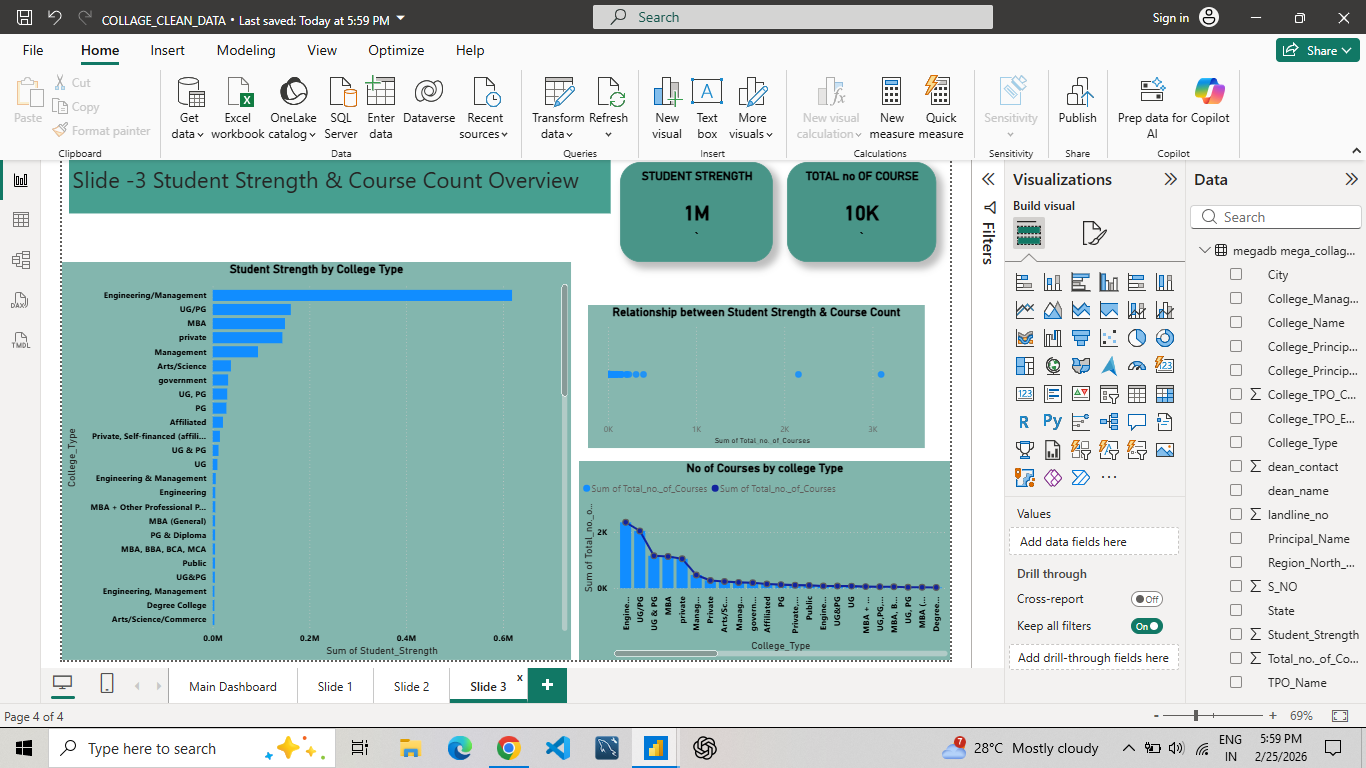

The page's visual inventory and layout, read from the dashboard file:
{"tool":"powerbi","page":{"name":"Slide 3","canvas":[1280,720],"ordinal":3},"visuals":[{"type":"textbox","box":[10,0,780,77.1],"z":0},{"type":"card","title":"STUDENT STRENGTH","fields":{"Values":["Sum(megadb mega_collage_data.Student_Strength)"]},"box":[803.5,2.9,220.3,144],"z":1000},{"type":"card","title":"TOTAL no OF COURSE","fields":{"Values":["Sum(megadb mega_collage_data.Total_no._of_Courses)"]},"box":[1044,2.9,214.6,144],"z":2000},{"type":"clusteredBarChart","title":"Student Strength by College Type","fields":{"Y":["Sum(megadb mega_collage_data.Student_Strength)"],"Category":["megadb mega_collage_data.College_Type"]},"box":[0,146.9,733,573.1],"z":3000},{"type":"lineStackedColumnComboChart","title":"No of Courses by college Type","fields":{"Category":["megadb mega_collage_data.College_Type"],"Y":["Sum(megadb mega_collage_data.Total_no._of_Courses)"],"Y2":["Sum(megadb mega_collage_data.Total_no._of_Courses)"]},"box":[744.5,433.4,535.7,286.6],"z":4000},{"type":"scatterChart","title":"Relationship between Student Strength & Course Count","fields":{"Category":["megadb mega_collage_data.Student_Strength"],"X":["Sum(megadb mega_collage_data.Total_no._of_Courses)"]},"box":[757.4,208.8,485.3,205.9],"z":5000}]}

Visuals, with their boxes on the page's 1280x720 design canvas (x1, y1, x2, y2). These are canvas units, not pixel positions in the 1366x768 screenshot, which may show the page scaled, cropped or inside an application window:
textbox: l=10, t=0, r=790, b=77
"STUDENT STRENGTH" card: l=804, t=3, r=1024, b=147
"TOTAL no OF COURSE" card: l=1044, t=3, r=1259, b=147
"Student Strength by College Type" clusteredBarChart: l=0, t=147, r=733, b=720
"No of Courses by college Type" lineStackedColumnComboChart: l=744, t=433, r=1280, b=720
"Relationship between Student Strength & Course Count" scatterChart: l=757, t=209, r=1243, b=415
